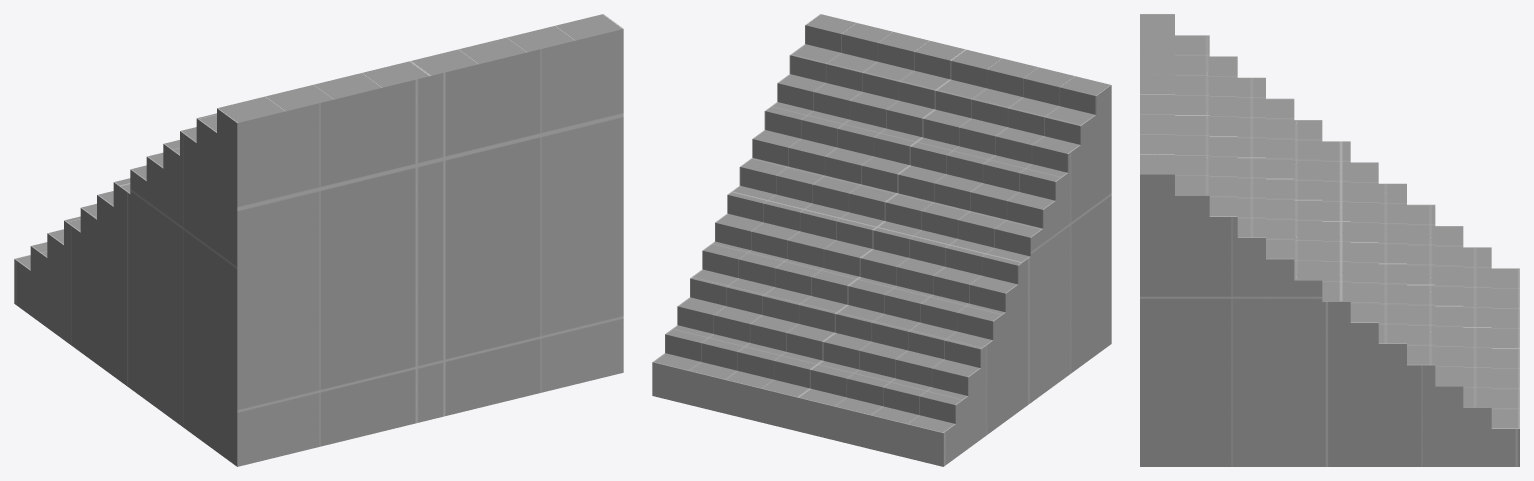
The model's file is proto_stair_01.fbx.
The picture shows the model from 3 angles, left to right: view 1: azimuth 30°, elevation 25°; view 2: azimuth 150°, elevation 25°; view 3: azimuth 270°, elevation 25°; orthographic projection. The views are drawn at different scales.
Visible parts, largest first — view 1: proto_stair_01; view 2: proto_stair_01; view 3: proto_stair_01.
Boxes of the visible parts, x1,y1,x2,y2 form: proto_stair_01: (14,14,623,466); proto_stair_01: (652,14,1111,466); proto_stair_01: (1140,14,1519,466).
Size of the model in its own units: 200 by 170 by 200.
